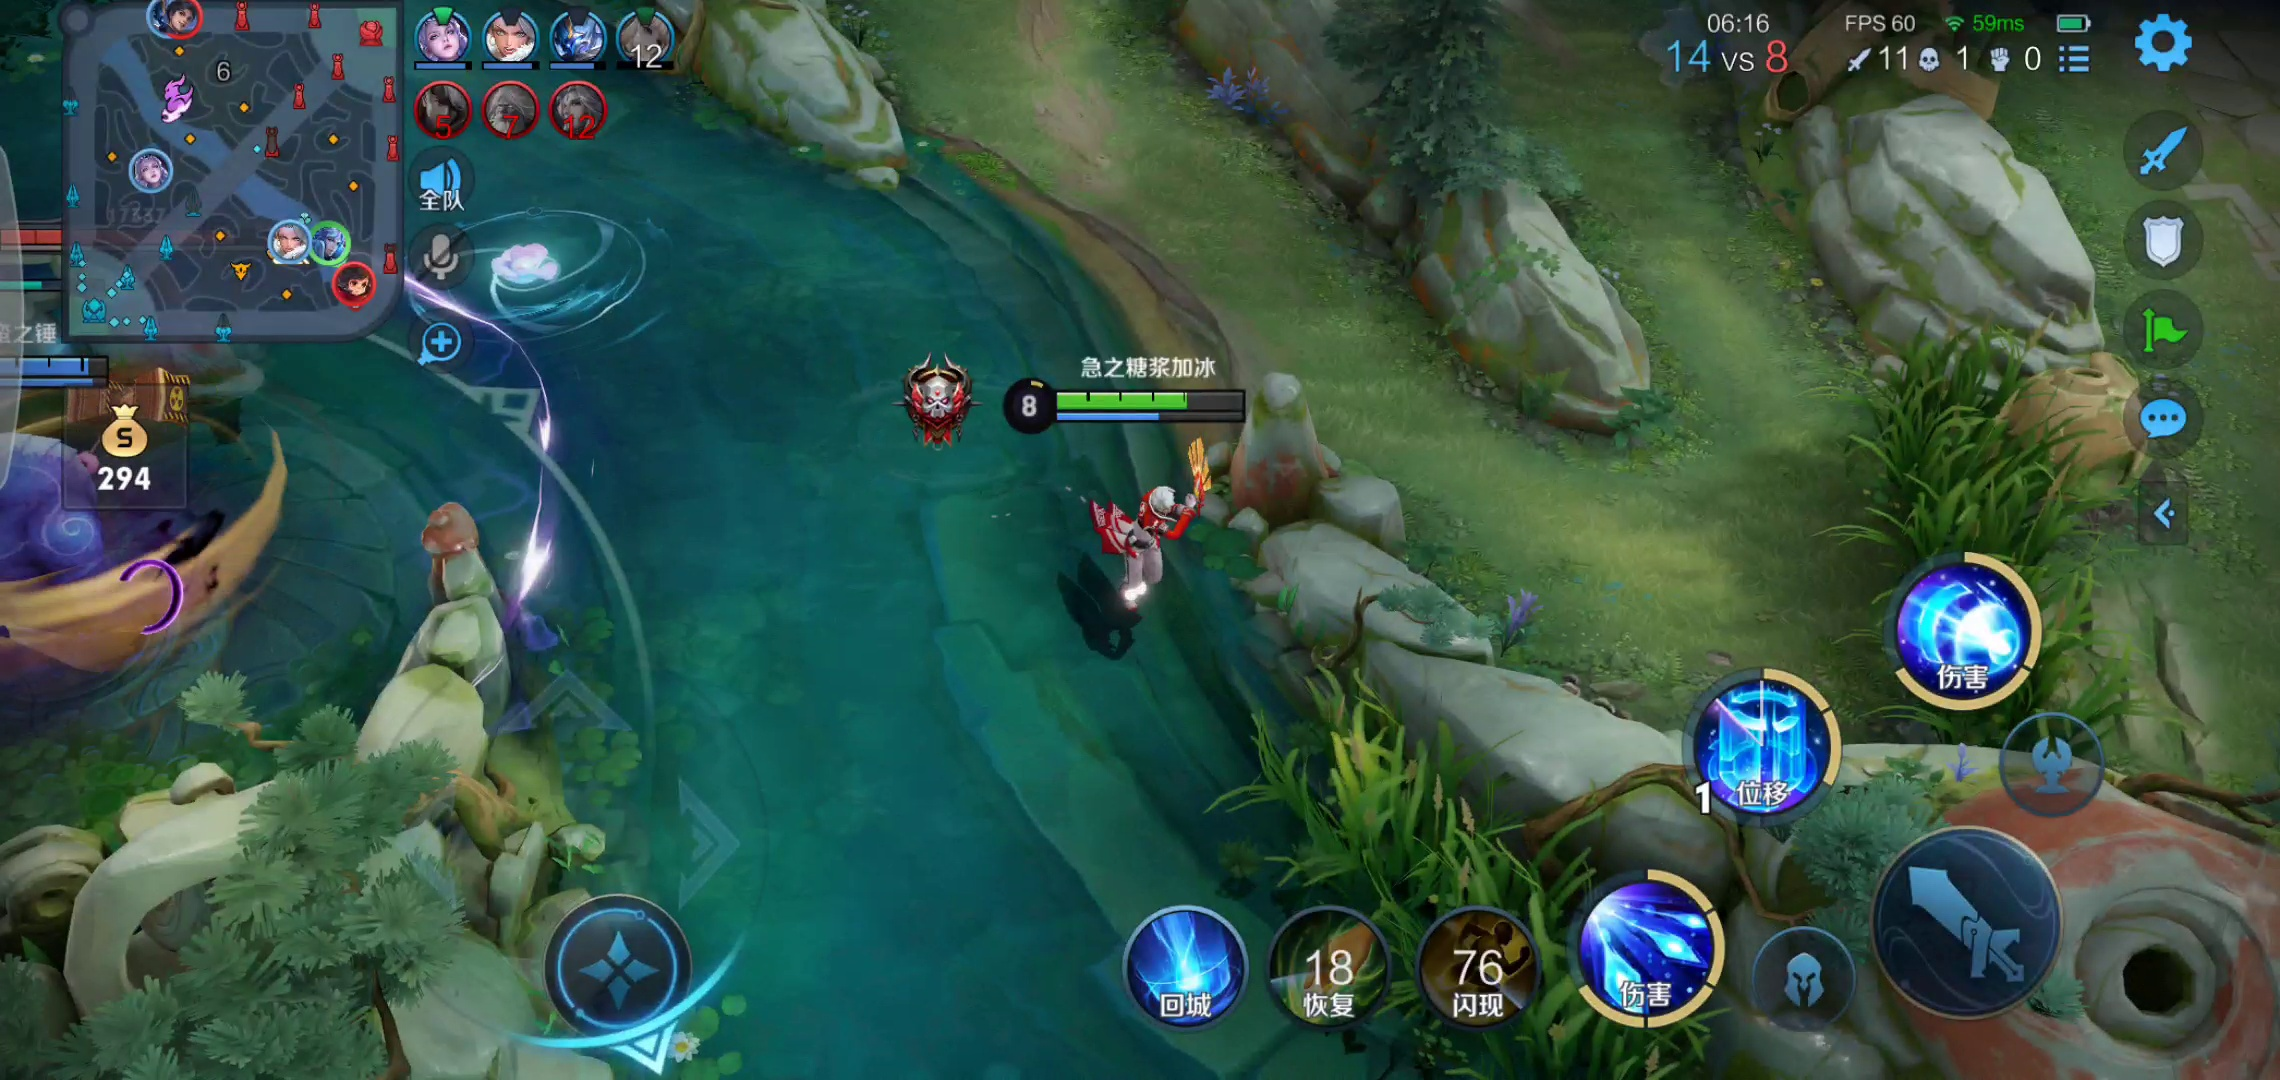dragon: (1, 278, 266, 717)
grass: (1240, 702, 1716, 1074), (1855, 337, 2100, 765)
hero: (1057, 470, 1229, 648)
